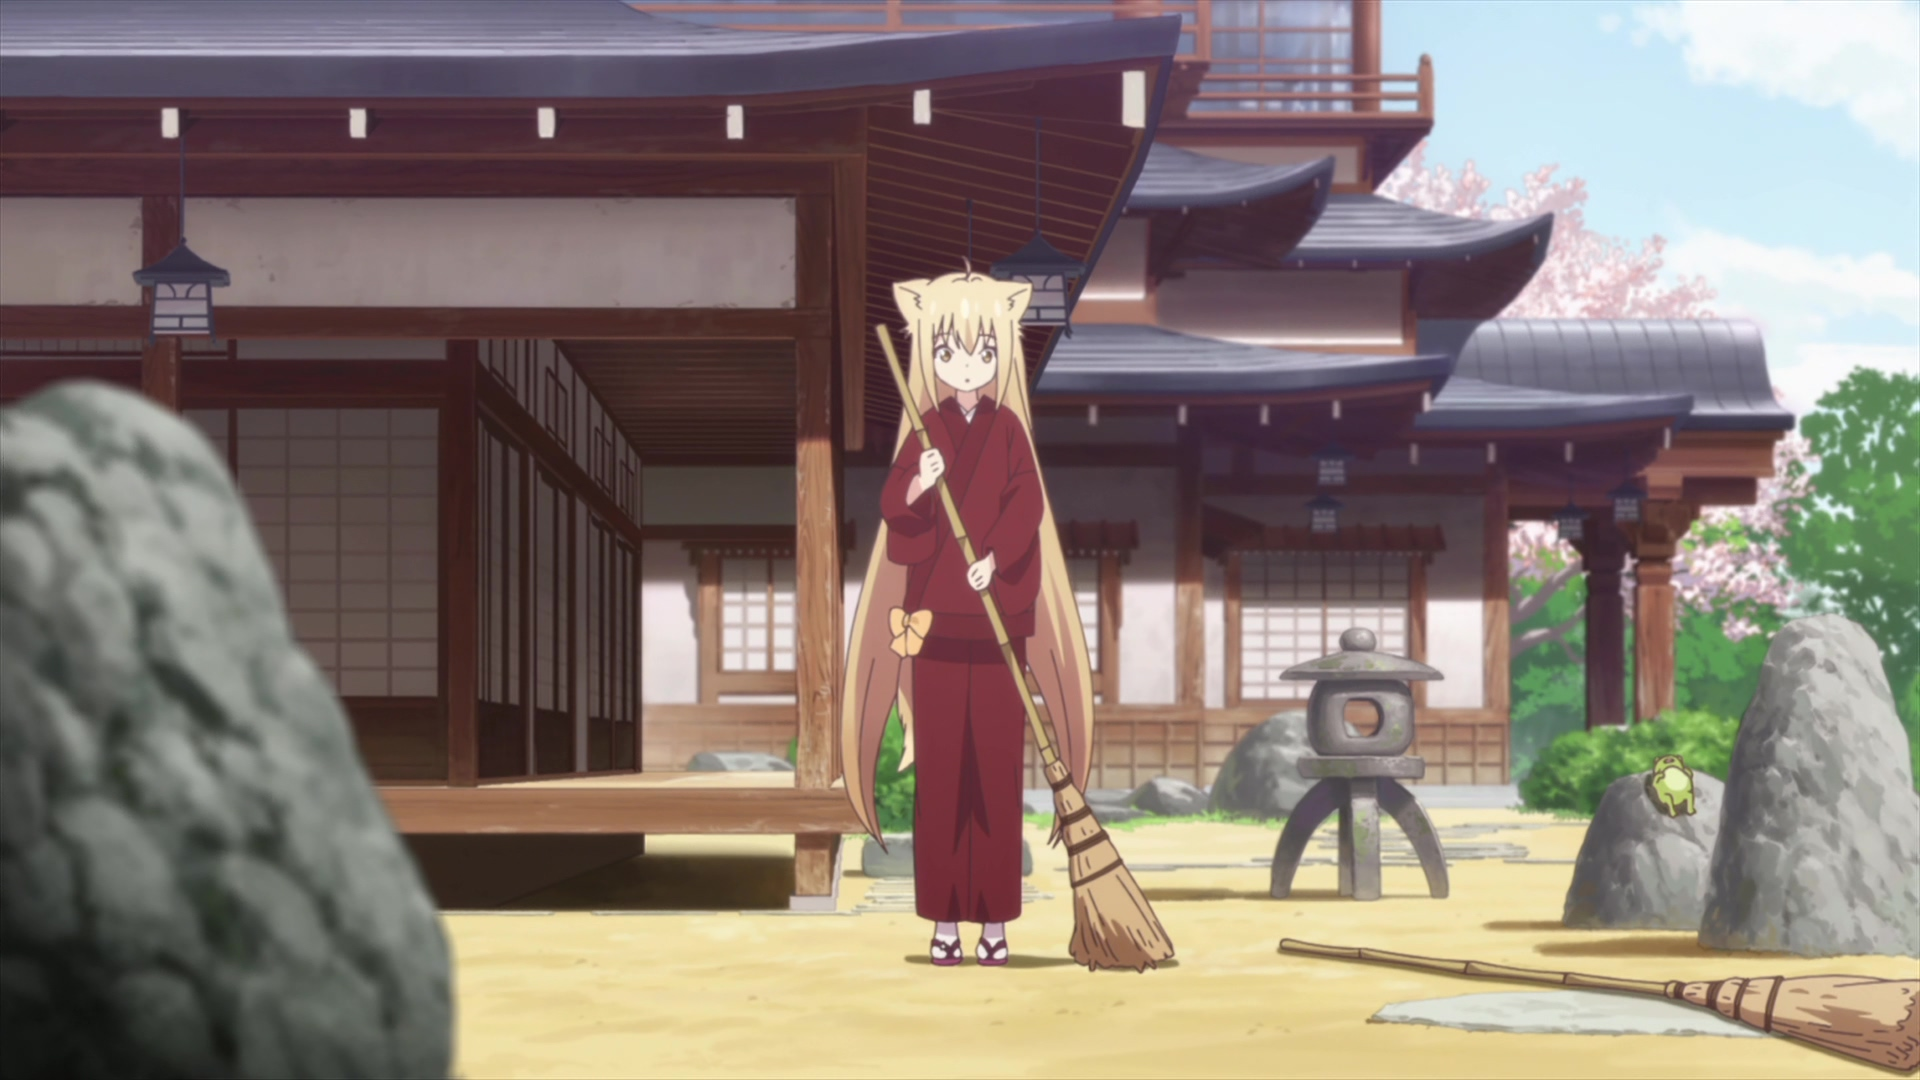柚: (840, 256, 1093, 965)
